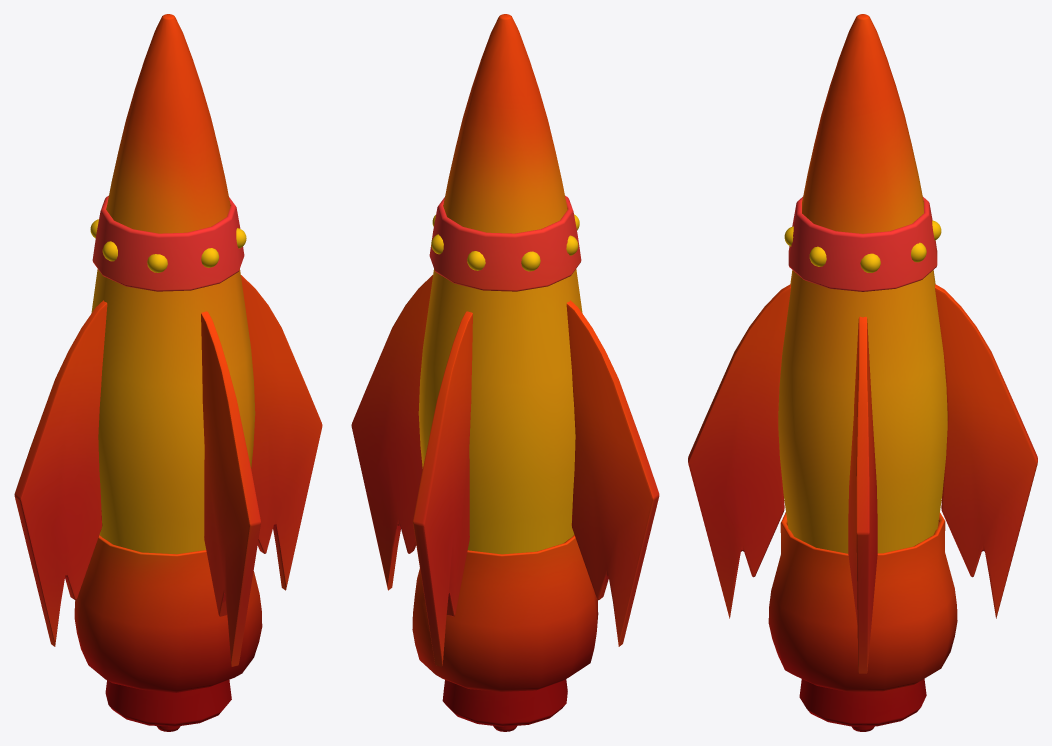
File: textured_rocket.fbx
The picture shows the model from 3 angles, left to right: view 1: azimuth 30°, elevation 25°; view 2: azimuth 150°, elevation 25°; view 3: azimuth 270°, elevation 25°; orthographic projection.
Visible parts, largest first — view 1: pCube11; view 2: pCube11; view 3: pCube11.
Part boxes in pixels (x1,y1,x2,y2): pCube11: (14,14,322,731); pCube11: (351,14,659,731); pCube11: (688,14,1037,731).
Size of the model in its own units: 5.39 by 12.11 by 5.39.
1 material, 1 textured.
